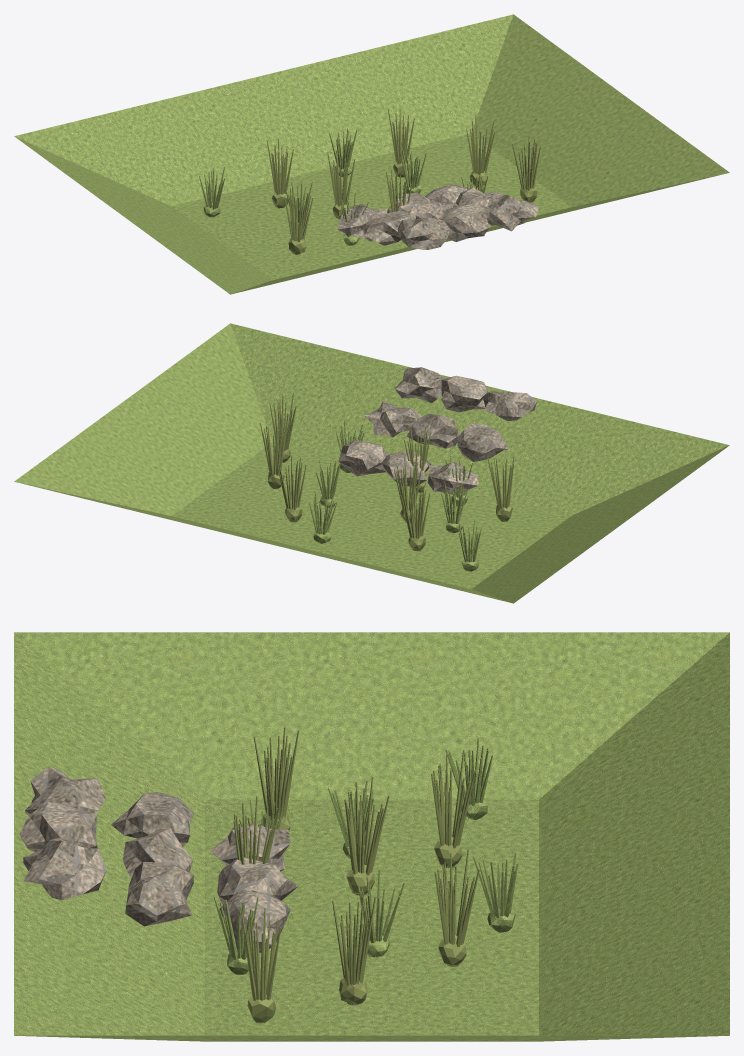
3 views of the same model, one above another, from view 1: azimuth 30°, elevation 25°; view 2: azimuth 150°, elevation 25°; view 3: azimuth 270°, elevation 25° (orthographic). The views are drawn at different scales.
Parts seen in each view (by area): view 1: water.bioswale (×2), bioswale-0 (×7), bioswale-1 (×3); view 2: water.bioswale (×2), bioswale-0 (×7), bioswale-1 (×4); view 3: water.bioswale (×2), bioswale-0 (×7), bioswale-1 (×5).
Boxes of the visible parts, x1,y1,x2,y2 form: water.bioswale (×2): (14,14,729,294); bioswale-0 (×7): (266,108,540,254); bioswale-1 (×3): (199,128,426,217); water.bioswale (×2): (14,323,729,603); bioswale-0 (×7): (260,392,514,551); bioswale-1 (×4): (309,460,481,571); water.bioswale (×2): (14,632,729,1041); bioswale-0 (×7): (233,727,479,1022); bioswale-1 (×5): (213,738,517,974).
Bounding box in the file's own units: 4 × 3 × 0.5336.
3 materials, 2 textured.
